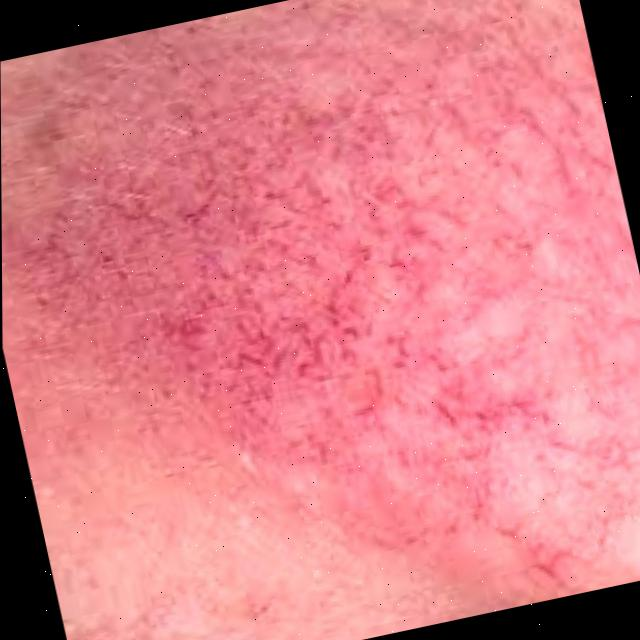Rosacea: (4, 29, 632, 640)
